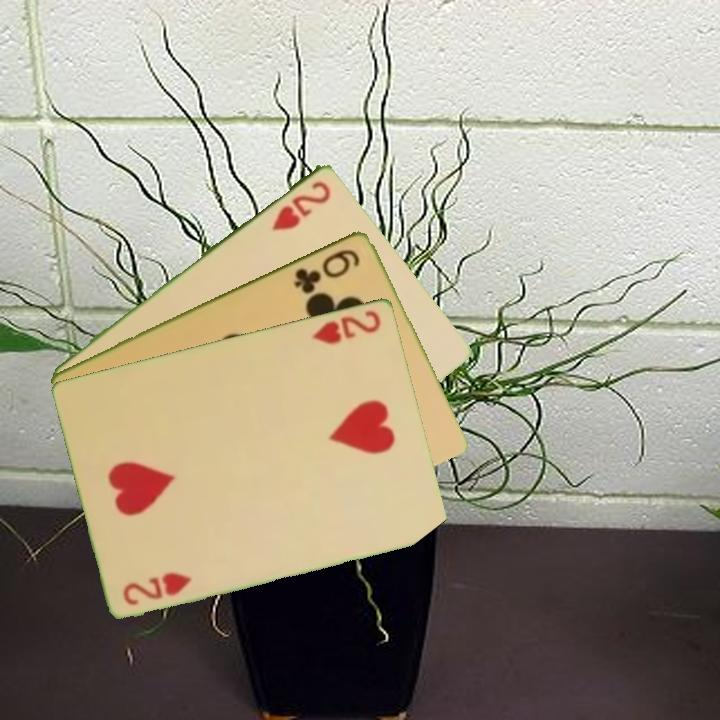2h: (267, 177, 334, 234), (308, 306, 384, 347), (119, 568, 196, 608)
6c: (290, 245, 364, 296)
